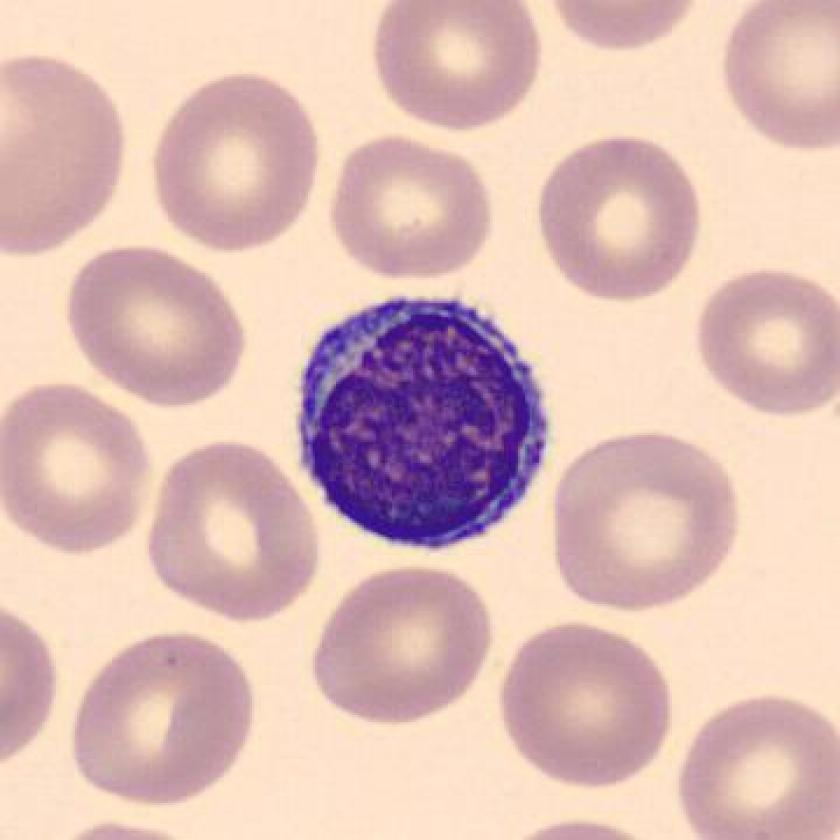lymphocyte: (281, 283, 561, 561)
